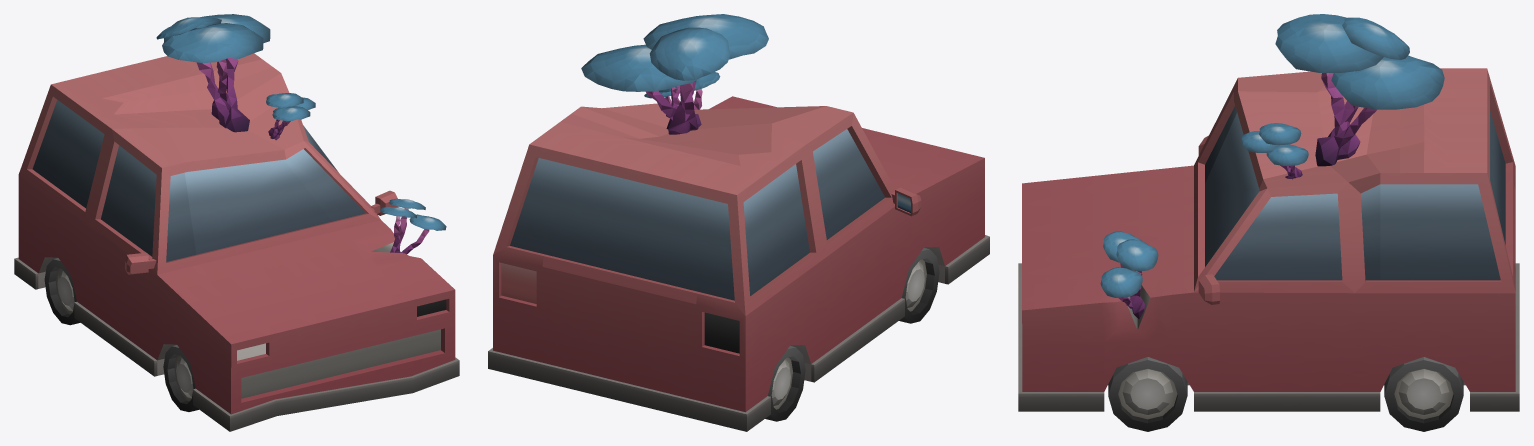
The model's file is Car_01_Infested_01_FBX.fbx.
3 renders of one model, left to right at view 1: azimuth 30°, elevation 25°; view 2: azimuth 150°, elevation 25°; view 3: azimuth 270°, elevation 25°, orthographic. The views are drawn at different scales.
Visible parts, largest first — view 1: pSphere23; view 2: pSphere23; view 3: pSphere23.
Boxes of the visible parts, bbox=[...] form: pSphere23: bbox=[14, 14, 459, 431]; pSphere23: bbox=[488, 14, 989, 431]; pSphere23: bbox=[1018, 14, 1519, 431].
Size of the model in its own units: 244 by 248 by 327.
